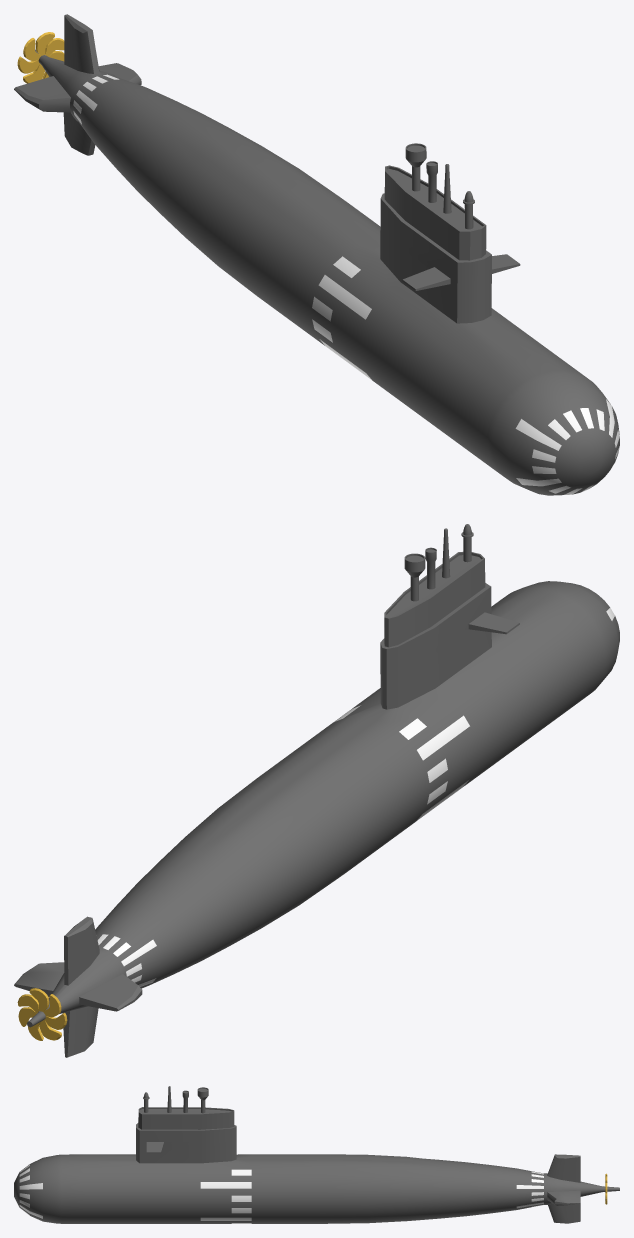
The model's file is Submarine.fbx.
3 views of the same model, one above another, from view 1: azimuth 30°, elevation 25°; view 2: azimuth 150°, elevation 25°; view 3: azimuth 270°, elevation 25° (orthographic). The views are drawn at different scales.
Parts seen in each view (by area): view 1: Cylinder; view 2: Cylinder; view 3: Cylinder.
Boxes of the visible parts, bbox=[...] form: Cylinder: bbox=[14, 14, 619, 495]; Cylinder: bbox=[14, 524, 619, 1057]; Cylinder: bbox=[14, 1086, 619, 1223].
Bounding box in the file's own units: 191 × 390 × 1573.
2 materials, 1 textured.
